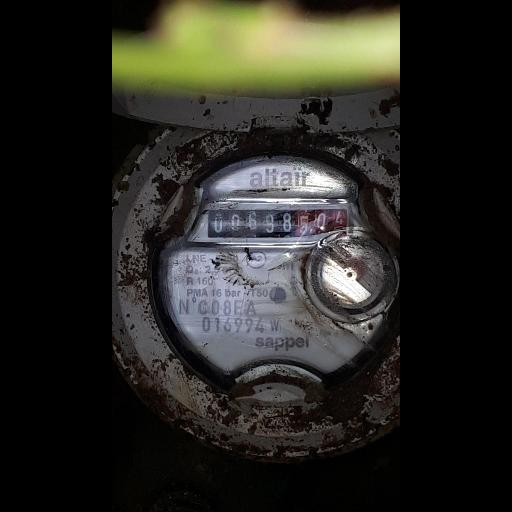0: (209, 211, 228, 238), (227, 210, 245, 238), (311, 209, 329, 235)
4: (329, 210, 348, 233)
5: (295, 210, 312, 237)
6: (245, 210, 261, 238)
8: (277, 210, 295, 239)
9: (261, 209, 278, 237)
border_water_meter_number: (207, 204, 352, 240)
